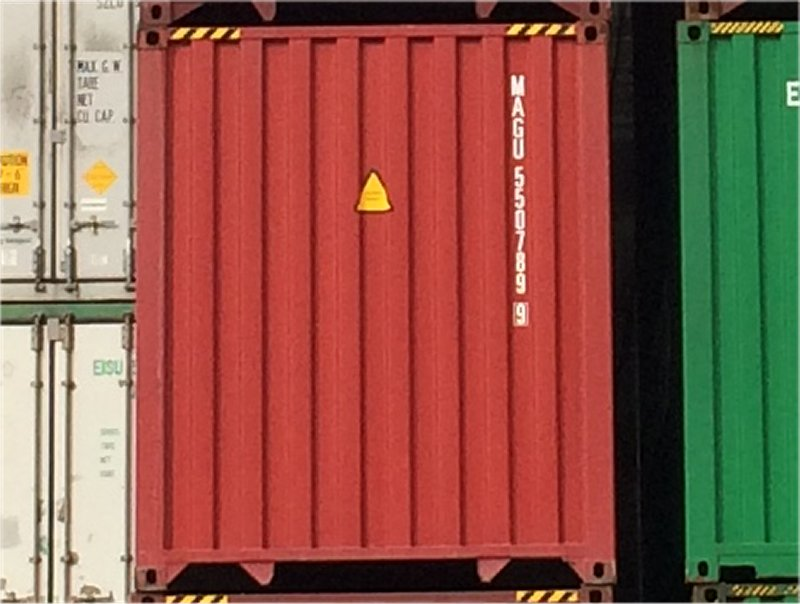container_no_door: (130, 21, 612, 604)
